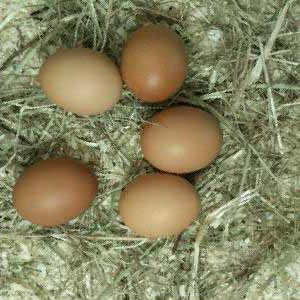egg: (140, 106, 223, 174), (39, 49, 121, 115), (14, 158, 96, 224), (121, 26, 186, 103), (119, 176, 198, 237)
